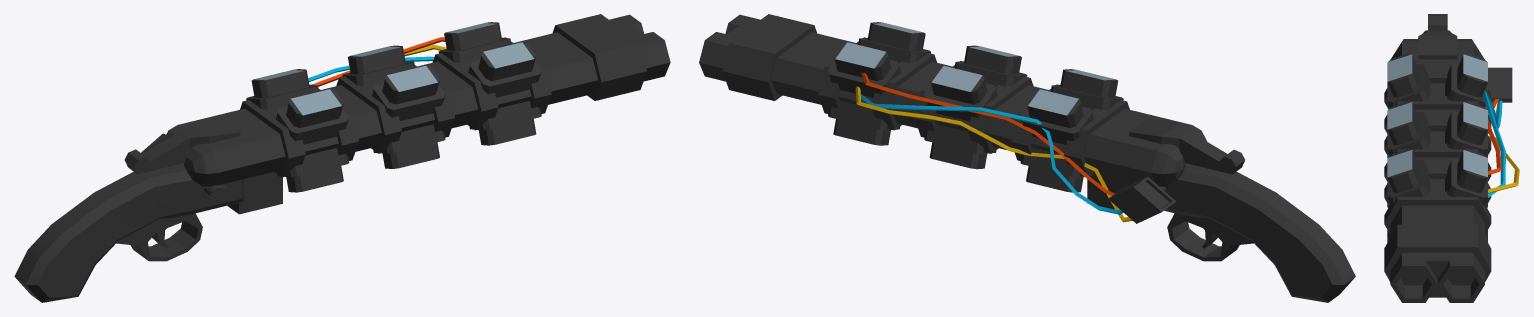
The model's file is GunV2.fbx.
3 renders of one model, left to right at view 1: azimuth 30°, elevation 25°; view 2: azimuth 150°, elevation 25°; view 3: azimuth 270°, elevation 25°, orthographic.
Visible parts, largest first — view 1: barrel, handle, wires, prop; view 2: barrel, handle, wires, prop; view 3: barrel, handle, wires, prop.
Boxes of the visible parts, <box> form: barrel: <box>214,14,670,214</box>; handle: <box>14,116,254,302</box>; wires: <box>308,37,446,86</box>; prop: <box>141,133,232,200</box>; barrel: <box>699,14,1155,209</box>; handle: <box>1115,116,1355,302</box>; wires: <box>855,72,1132,222</box>; prop: <box>1108,176,1175,223</box>; barrel: <box>1384,53,1491,302</box>; handle: <box>1390,14,1484,59</box>; wires: <box>1482,91,1519,197</box>; prop: <box>1488,67,1512,102</box>.
Bounding box in the file's own units: 75.44 × 17.57 × 13.87.
